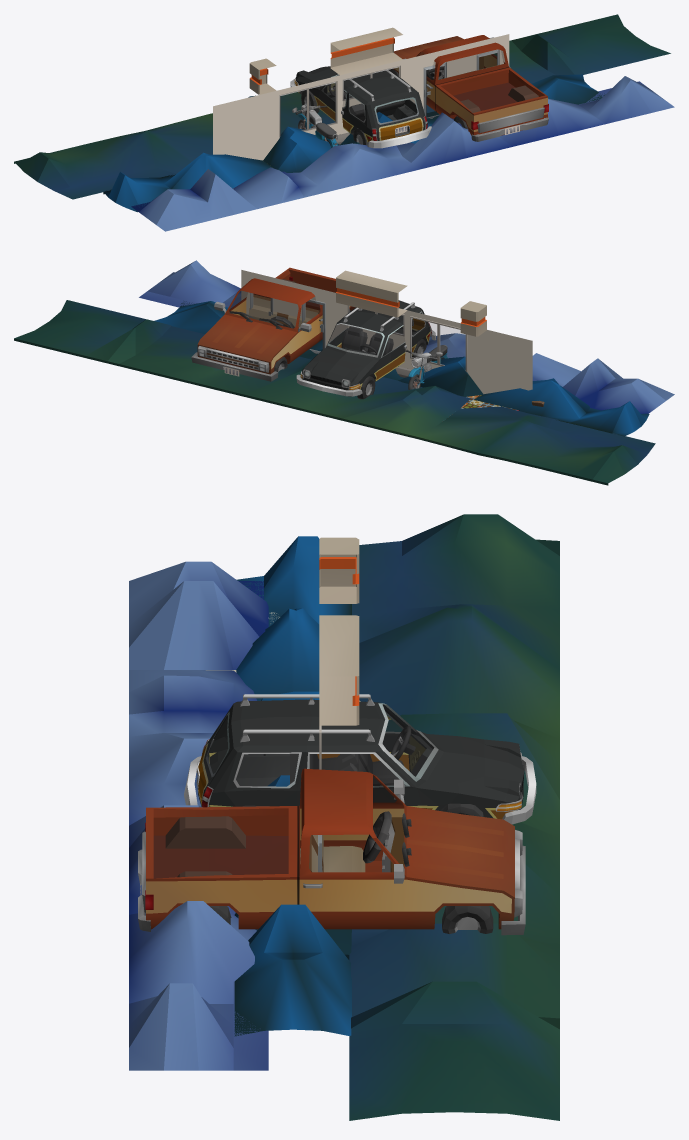
Rendered from Alium.glb.
3 views of the same model, one above another, from view 1: azimuth 30°, elevation 25°; view 2: azimuth 150°, elevation 25°; view 3: azimuth 270°, elevation 25° (orthographic). The views are drawn at different scales.
Parts seen in each view (by area): view 1: BackgroundMountains, ChevroletTruck, AMCPacer, Wall, Wall_TallWindows, Wall_Topper_Straight, Wall_Door, Wall_ShortWindows, SmallWall_Door, MZTrophy, Wall_Topper_Corner; view 2: BackgroundMountains, ChevroletTruck, AMCPacer, Wall, Wall_TallWindows, Wall_Topper_Straight, Wall_Door, SmallWall_Door, MZTrophy, Wall_Topper_Corner, Wall_ShortWindows; view 3: BackgroundMountains, ChevroletTruck, AMCPacer, Wall_Topper_Straight, Wall_Topper_Corner.
Part boxes in pixels (x1=…): BackgroundMountains: x1=14, y1=14, x2=674, y2=231; ChevroletTruck: x1=388, y1=35, x2=548, y2=141; AMCPacer: x1=290, y1=66, x2=431, y2=148; Wall: x1=213, y1=91, x2=276, y2=160; Wall_TallWindows: x1=276, y1=75, x2=339, y2=142; Wall_Topper_Straight: x1=330, y1=27, x2=402, y2=75; Wall_Door: x1=403, y1=44, x2=466, y2=118; Wall_ShortWindows: x1=340, y1=60, x2=403, y2=134; SmallWall_Door: x1=467, y1=34, x2=509, y2=72; MZTrophy: x1=292, y1=104, x2=337, y2=148; Wall_Topper_Corner: x1=249, y1=58, x2=276, y2=94; BackgroundMountains: x1=14, y1=260, x2=674, y2=485; ChevroletTruck: x1=191, y1=267, x2=355, y2=381; AMCPacer: x1=296, y1=300, x2=436, y2=399; Wall: x1=470, y1=330, x2=532, y2=394; Wall_TallWindows: x1=407, y1=310, x2=470, y2=375; Wall_Topper_Straight: x1=336, y1=270, x2=407, y2=317; Wall_Door: x1=283, y1=280, x2=345, y2=353; SmallWall_Door: x1=241, y1=270, x2=282, y2=317; MZTrophy: x1=406, y1=345, x2=447, y2=389; Wall_Topper_Corner: x1=460, y1=301, x2=486, y2=336; Wall_ShortWindows: x1=345, y1=305, x2=407, y2=368; BackgroundMountains: x1=129, y1=514, x2=559, y2=1120; ChevroletTruck: x1=138, y1=768, x2=525, y2=935; AMCPacer: x1=184, y1=694, x2=536, y2=824; Wall_Topper_Straight: x1=319, y1=615, x2=359, y2=725; Wall_Topper_Corner: x1=319, y1=537, x2=359, y2=603.
Bounding box in the file's own units: 57.36 × 8.67 × 17.92.
